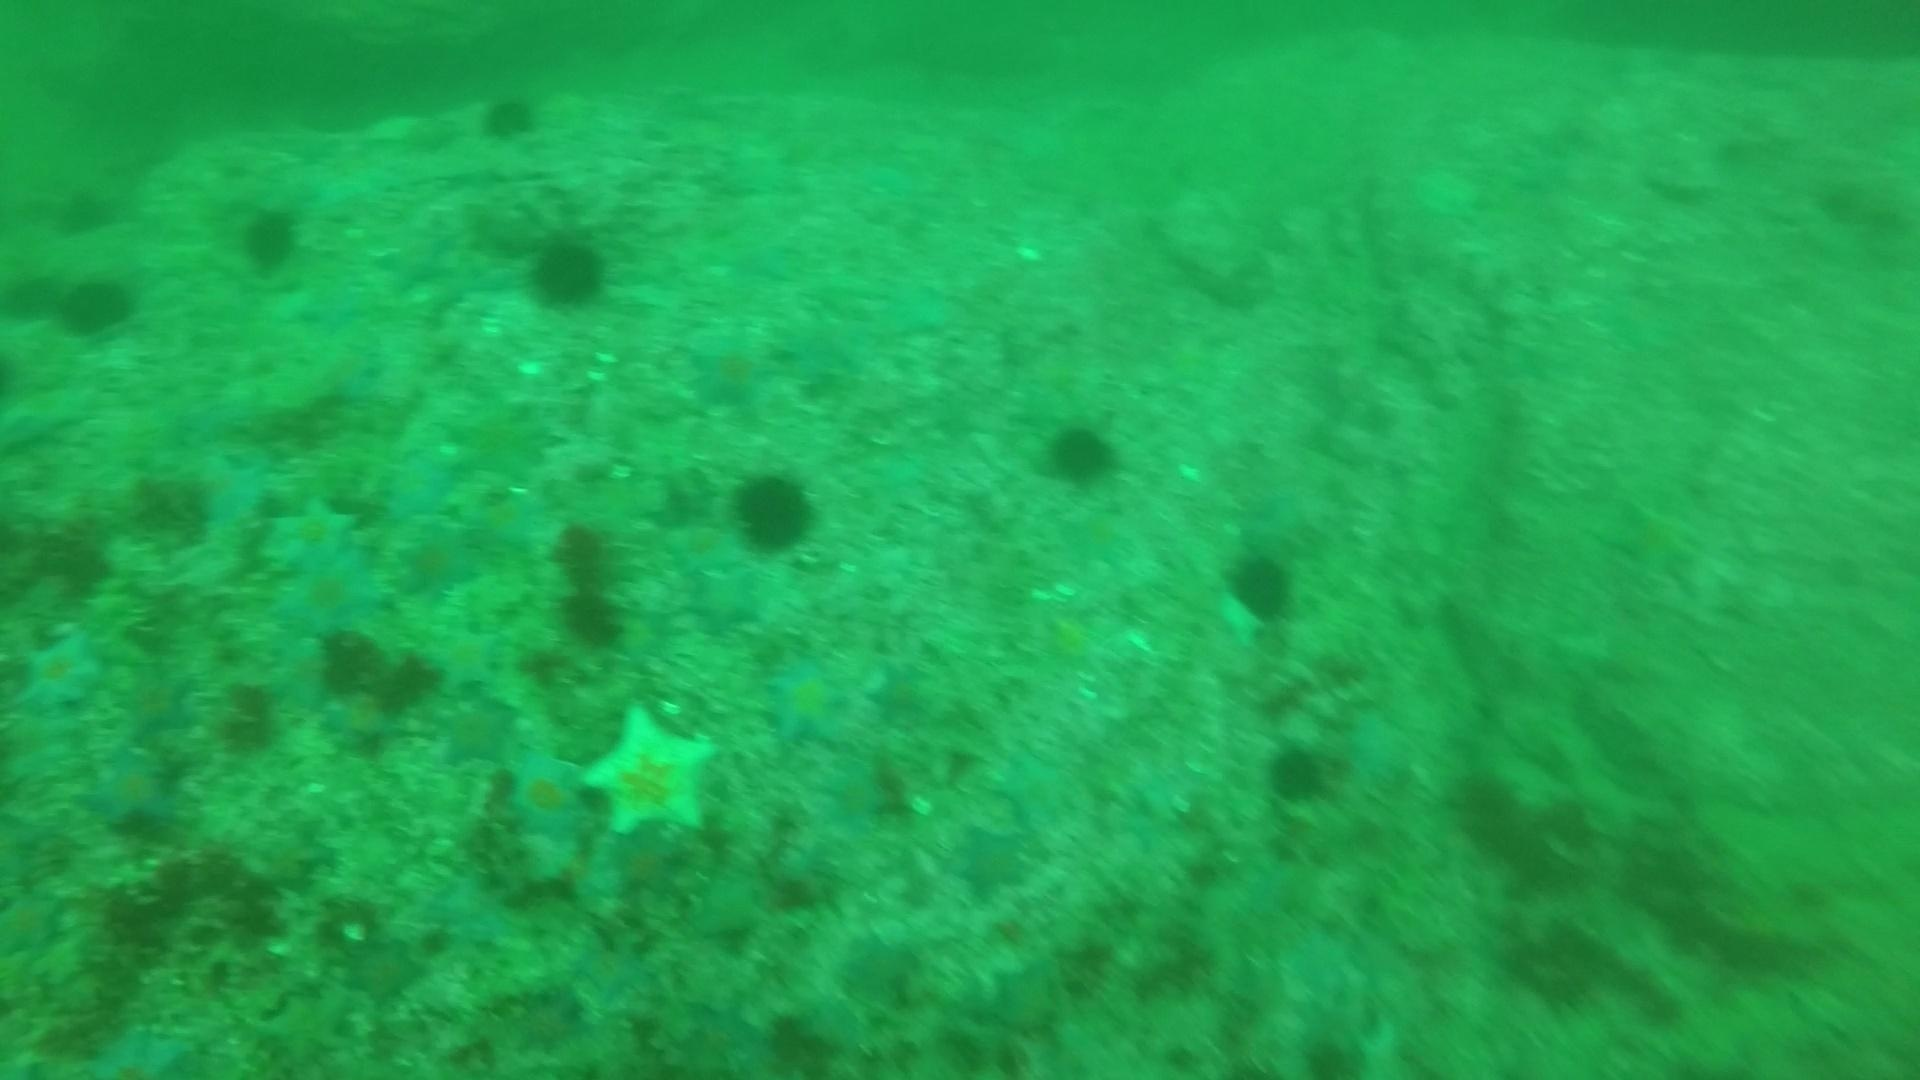echinus: (727, 465, 822, 556), (521, 227, 615, 314), (49, 268, 142, 343), (1220, 543, 1303, 628), (1036, 415, 1125, 492), (553, 578, 632, 651), (1261, 736, 1340, 808), (233, 200, 307, 277), (1458, 769, 1526, 833), (49, 181, 120, 241), (473, 87, 545, 146), (1, 260, 51, 320), (553, 524, 604, 575), (323, 626, 378, 673)
starfish: (574, 698, 723, 847), (269, 542, 392, 641), (442, 393, 563, 483), (655, 992, 781, 1076), (1601, 491, 1712, 585), (758, 647, 857, 752), (497, 741, 595, 845), (679, 320, 785, 414), (79, 746, 187, 836), (8, 622, 109, 717), (261, 492, 367, 578), (423, 869, 530, 952), (377, 440, 469, 524), (418, 618, 512, 699), (427, 694, 522, 771), (80, 1015, 203, 1075), (949, 818, 1038, 899), (564, 934, 659, 1009), (447, 473, 543, 547), (269, 269, 378, 334), (396, 522, 488, 599), (117, 659, 203, 741), (335, 935, 430, 1007), (372, 218, 460, 291), (683, 563, 767, 638), (1055, 504, 1142, 572), (316, 686, 404, 752), (659, 518, 749, 580), (1, 885, 69, 963)
